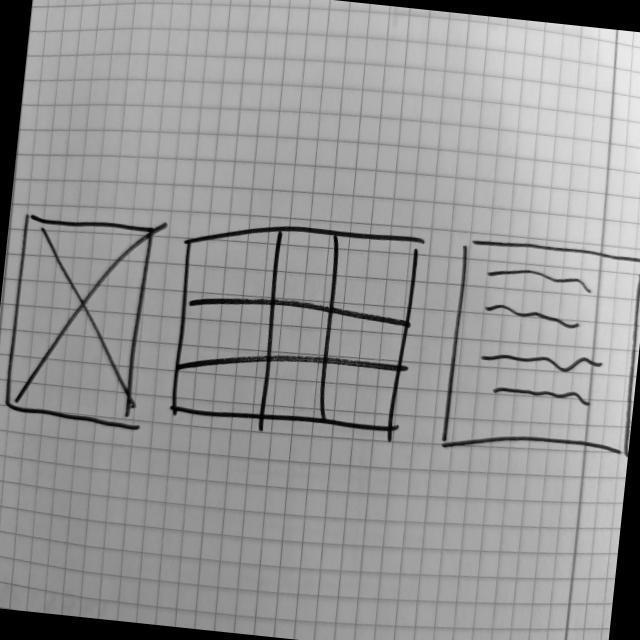image: (2, 209, 159, 431)
table: (166, 209, 432, 443)
textbox: (436, 233, 640, 471)
